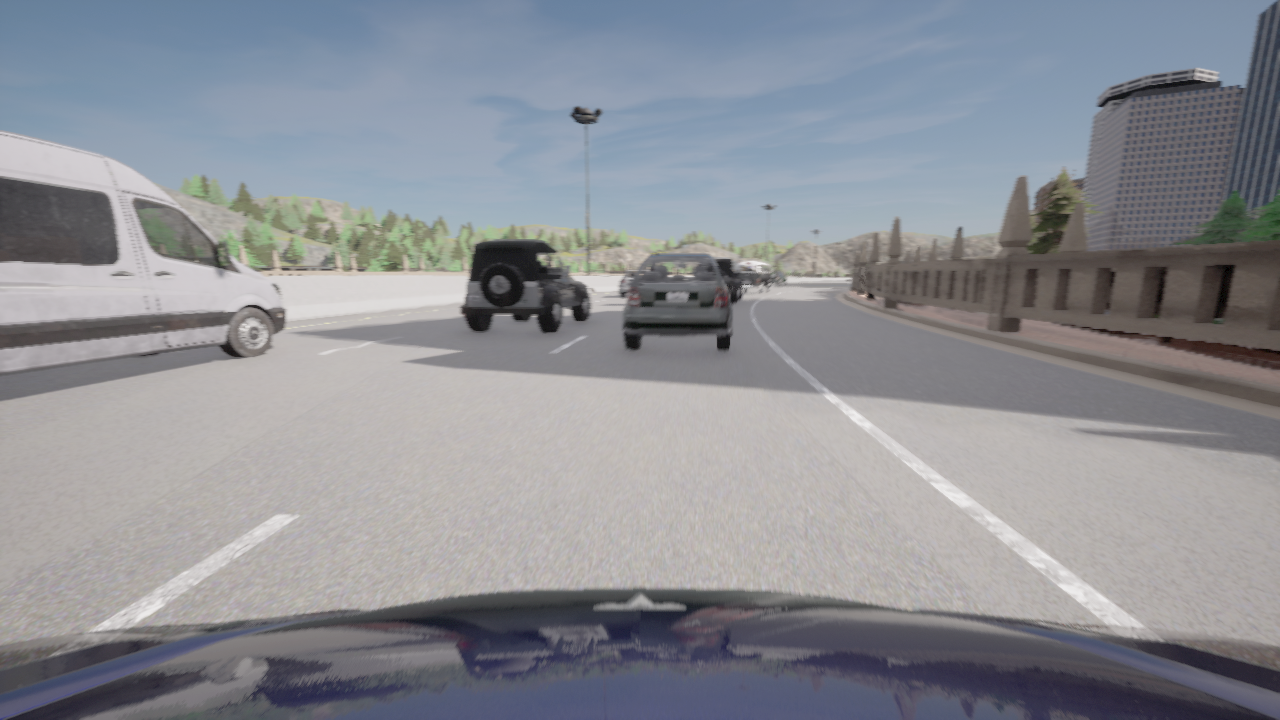cyclist: (0, 588, 1279, 719), (461, 240, 590, 332), (623, 253, 732, 350), (713, 257, 742, 303), (735, 261, 773, 293), (619, 269, 637, 297), (734, 259, 758, 271), (772, 271, 788, 286)
